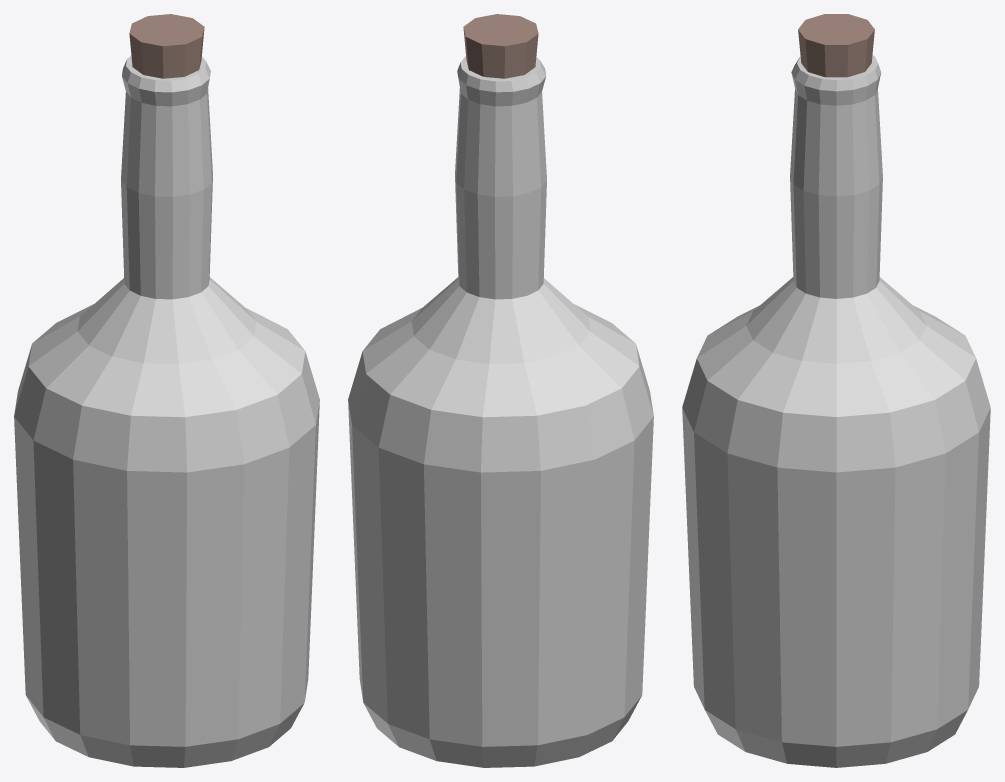
The model's file is bottle1.fbx.
3 views of the same model, side by side, from view 1: azimuth 30°, elevation 25°; view 2: azimuth 150°, elevation 25°; view 3: azimuth 270°, elevation 25° (orthographic).
Visible parts, largest first — view 1: Cylinder, Cylinder.001; view 2: Cylinder, Cylinder.001; view 3: Cylinder, Cylinder.001.
Part boxes in pixels (<box>): Cylinder: <box>14,56,319,767</box>; Cylinder.001: <box>129,14,204,78</box>; Cylinder: <box>348,56,653,767</box>; Cylinder.001: <box>463,14,538,78</box>; Cylinder: <box>682,55,990,767</box>; Cylinder.001: <box>798,14,874,77</box>.
Size of the model in its own units: 29.52 by 72.22 by 29.52.
